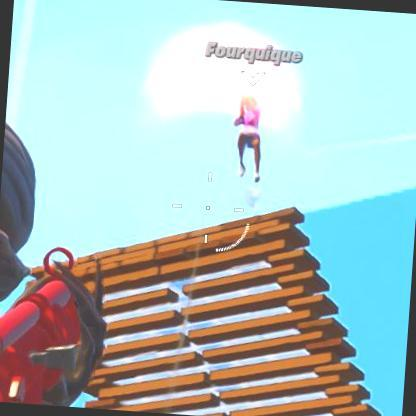person: (232, 91, 268, 184)
